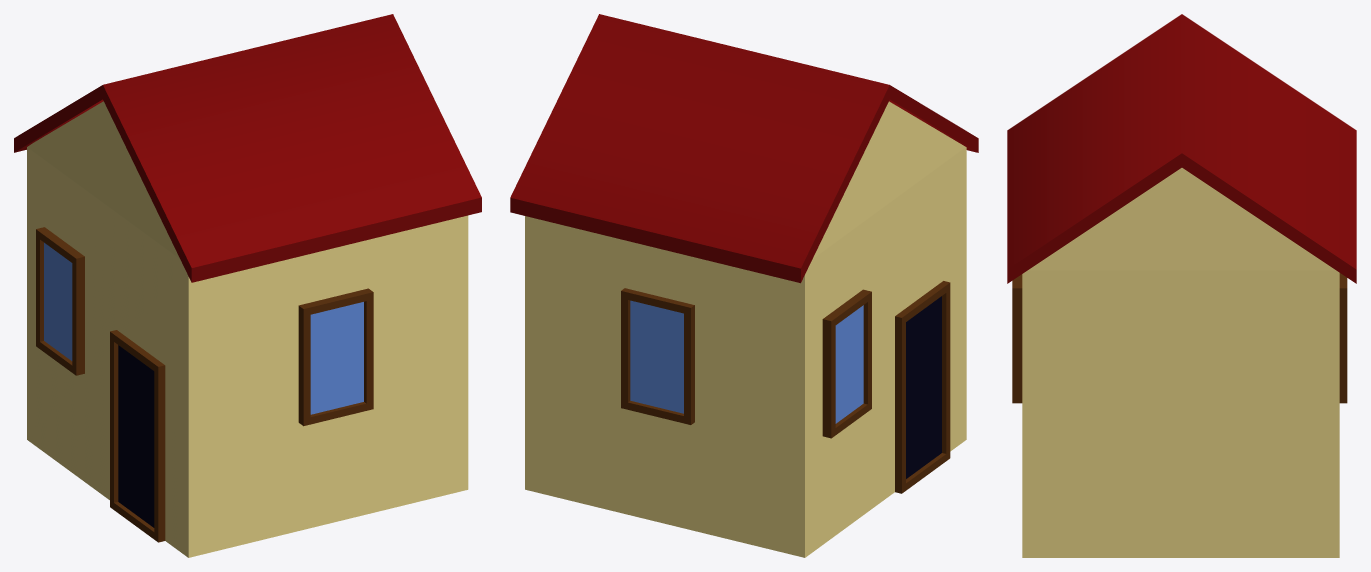
The model's file is Haus_1.fbx.
3 renders of one model, left to right at view 1: azimuth 30°, elevation 25°; view 2: azimuth 150°, elevation 25°; view 3: azimuth 270°, elevation 25°, orthographic.
Parts seen in each view (by area): view 1: Wand, Dach, Dachwand, Tür001, Fenster001, Tür, Fensterrahmen001, Fensterrahmen, Fenster; view 2: Wand, Dach, Dachwand, Tür001, Fenster002, Tür, Fensterrahmen002, Fensterrahmen, Fenster; view 3: Wand, Dach, Dachwand_02, Fensterrahmen001, Fensterrahmen002.
Boxes of the visible parts, x1,y1,x2,y2 form: Wand: [27, 147, 468, 557]; Dach: [14, 14, 481, 282]; Dachwand: [27, 101, 179, 258]; Tür001: [118, 345, 154, 527]; Fenster001: [310, 302, 363, 414]; Tür: [110, 330, 165, 542]; Fensterrahmen001: [298, 288, 373, 426]; Fensterrahmen: [36, 227, 84, 375]; Fenster: [44, 242, 72, 360]; Wand: [525, 147, 966, 557]; Dach: [510, 14, 978, 283]; Dachwand: [813, 101, 965, 258]; Tür001: [906, 296, 941, 478]; Fenster002: [630, 300, 683, 413]; Tür: [895, 281, 950, 493]; Fensterrahmen002: [621, 288, 694, 424]; Fensterrahmen: [822, 289, 871, 438]; Fenster: [835, 305, 863, 423]; Wand: [1022, 270, 1339, 557]; Dach: [1007, 14, 1356, 283]; Dachwand_02: [1028, 168, 1335, 270]; Fensterrahmen001: [1012, 274, 1022, 403]; Fensterrahmen002: [1339, 273, 1347, 403].
Size of the model in its own units: 211 by 283 by 220.
